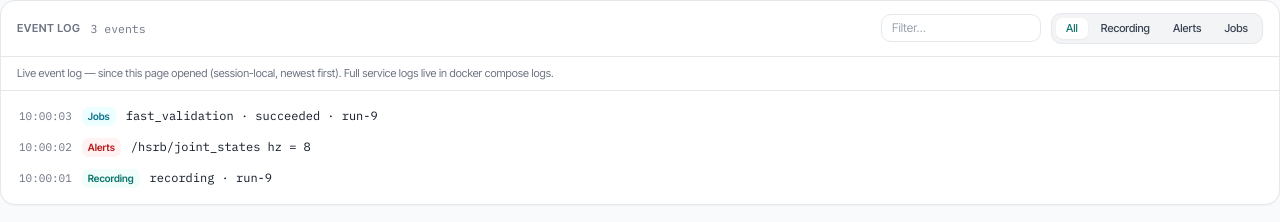
Scenario: the type filter narrows to a single event kind
The image size is (1280, 222).
Click the button with test id "logs-type-alert" at (1187, 28), box [1163, 18, 1212, 38]
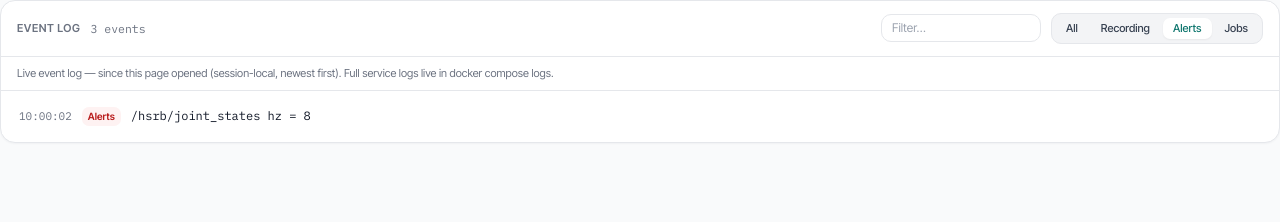
Expected: the element with test id "logs-row" shows "/hsrb/joint_states hz = 8", [131, 108, 311, 123]
Expected: the number of elements with test id "logs-row" is 1, [19, 107, 311, 126]
